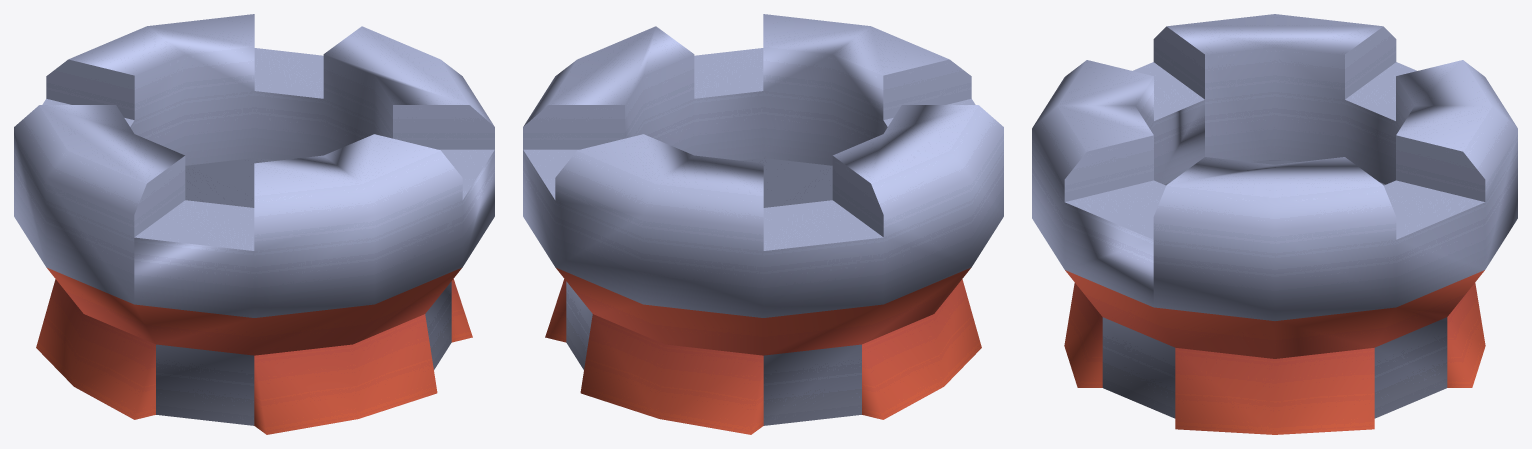
File: tower-round-top-c.glb
3 views of the same model, side by side, from view 1: azimuth 30°, elevation 25°; view 2: azimuth 150°, elevation 25°; view 3: azimuth 270°, elevation 25° (orthographic).
Visible parts, largest first — view 1: tower-round-top-c; view 2: tower-round-top-c; view 3: tower-round-top-c.
Boxes of the visible parts, bbox=[...] form: tower-round-top-c: bbox=[14, 14, 494, 434]; tower-round-top-c: bbox=[523, 14, 1003, 434]; tower-round-top-c: bbox=[1032, 14, 1517, 434].
Bounding box in the file's own units: 0.976 × 0.5325 × 0.976.
1 material, 1 textured.
